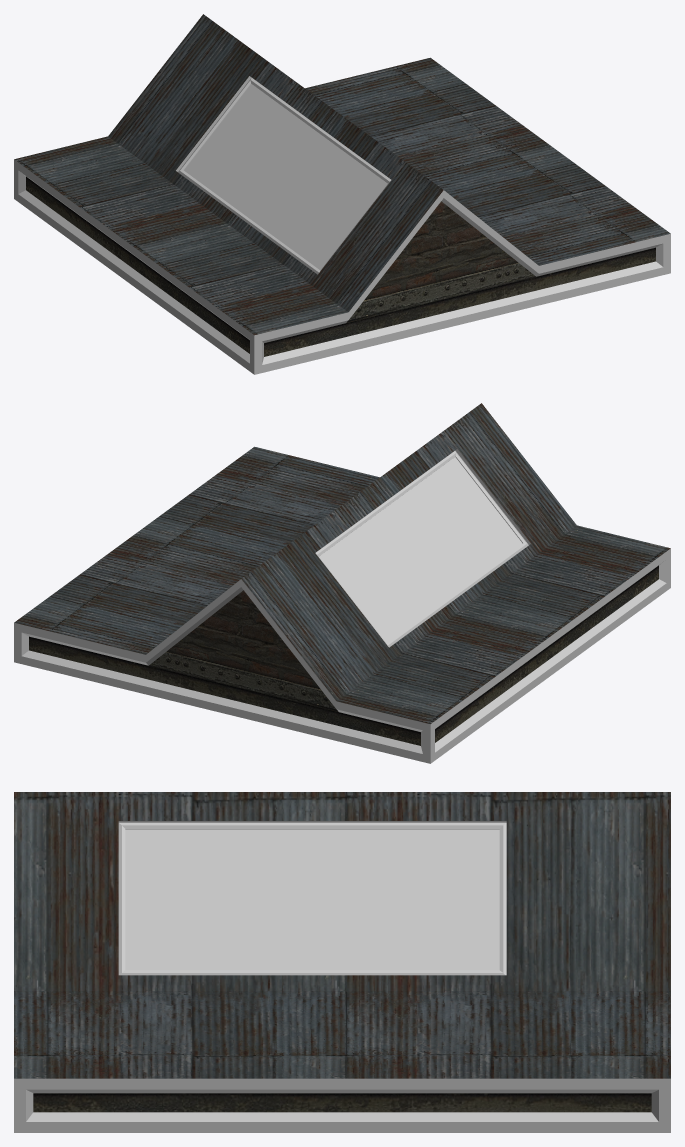
The model's file is roof_bx_1_corner_2.fbx.
3 views of the same model, one above another, from view 1: azimuth 30°, elevation 25°; view 2: azimuth 150°, elevation 25°; view 3: azimuth 270°, elevation 25° (orthographic). The views are drawn at different scales.
Parts seen in each view (by area): view 1: roof_bx_1_corner_2; view 2: roof_bx_1_corner_2; view 3: roof_bx_1_corner_2.
Part boxes in pixels (x1=…): roof_bx_1_corner_2: x1=14, y1=14, x2=670, y2=374; roof_bx_1_corner_2: x1=14, y1=403, x2=670, y2=763; roof_bx_1_corner_2: x1=14, y1=792, x2=670, y2=1132.
Bounding box in the file's own units: 4.4 × 4.4 × 1.4.
